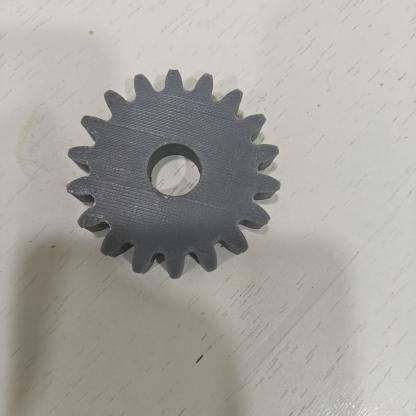gear: (58, 59, 291, 286)
